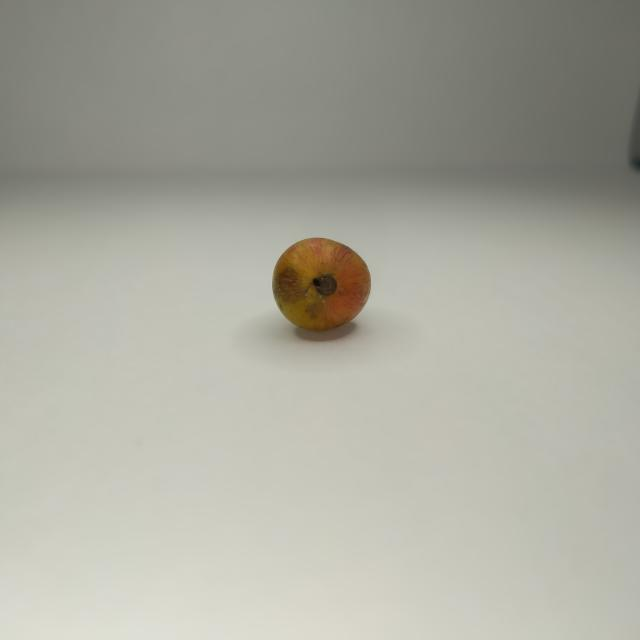Infectado: (272, 238, 370, 332)
